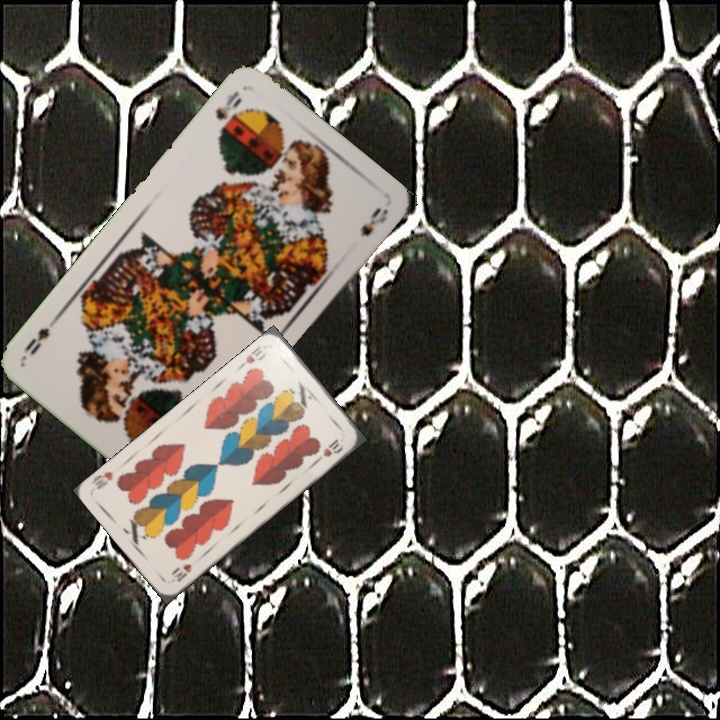H10: (235, 342, 269, 371), (167, 560, 194, 584)
SO: (211, 87, 245, 136)
